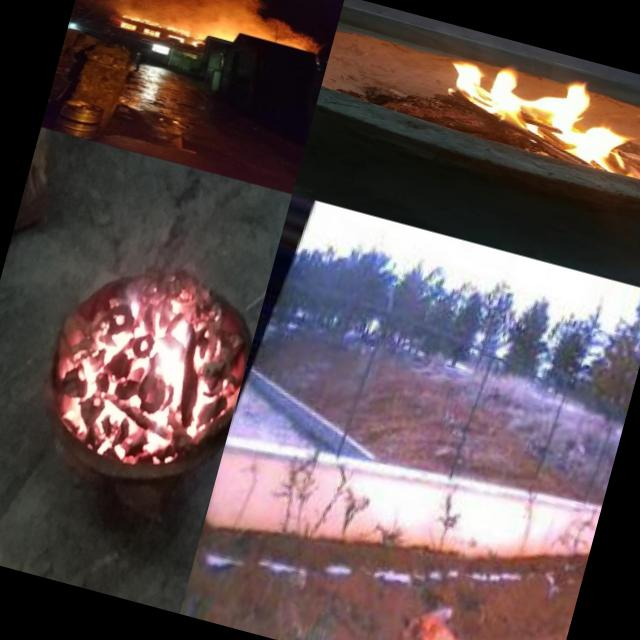fire: (36, 240, 264, 489), (407, 38, 640, 193), (393, 597, 499, 640), (116, 10, 194, 48), (190, 22, 238, 57)
smoke: (172, 0, 323, 52), (82, 0, 224, 28), (219, 0, 271, 22)
